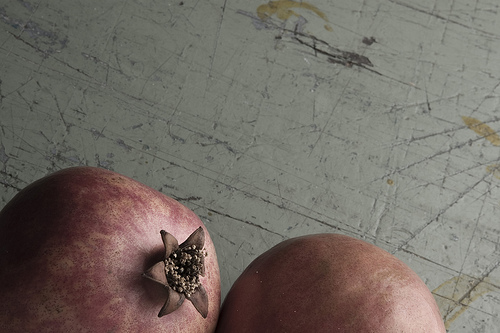pomogranate: (0, 164, 225, 332), (221, 233, 447, 332)
